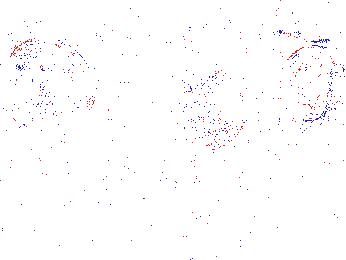moon jellyfish: (214, 34, 299, 134), (12, 40, 96, 113), (60, 48, 133, 118), (187, 70, 246, 150), (279, 44, 333, 122), (1, 70, 37, 125)
